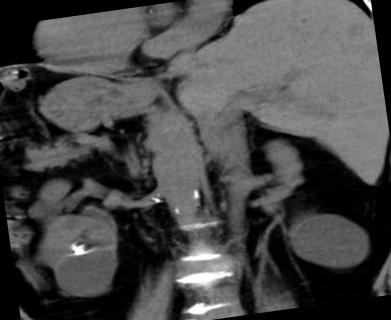Tas_Var: (71, 248, 87, 255), (70, 244, 78, 250), (78, 243, 84, 250)
